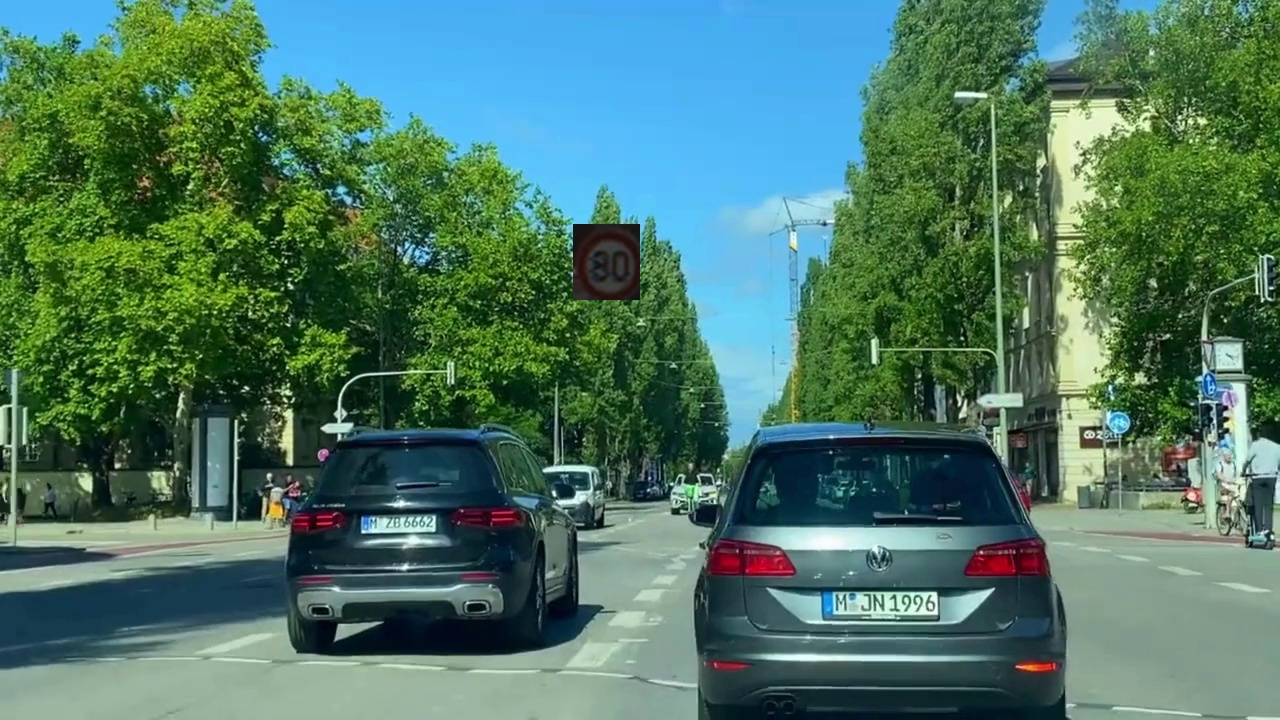Speed 80: (573, 224, 640, 300)
